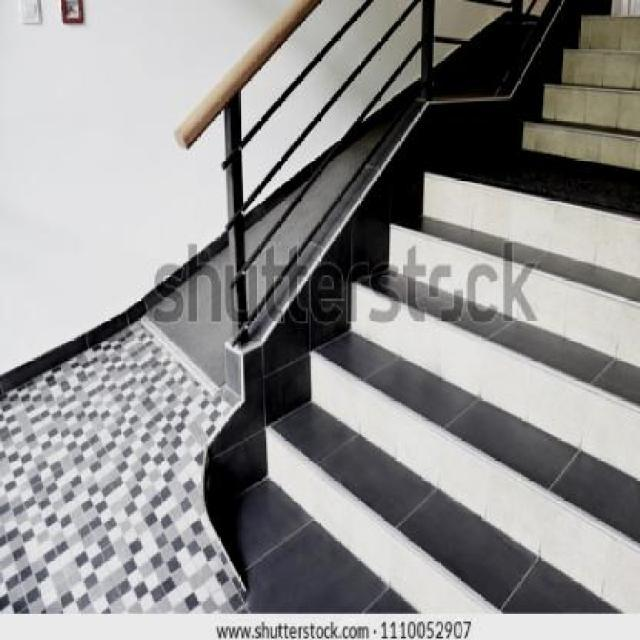stair: (237, 0, 639, 612)
